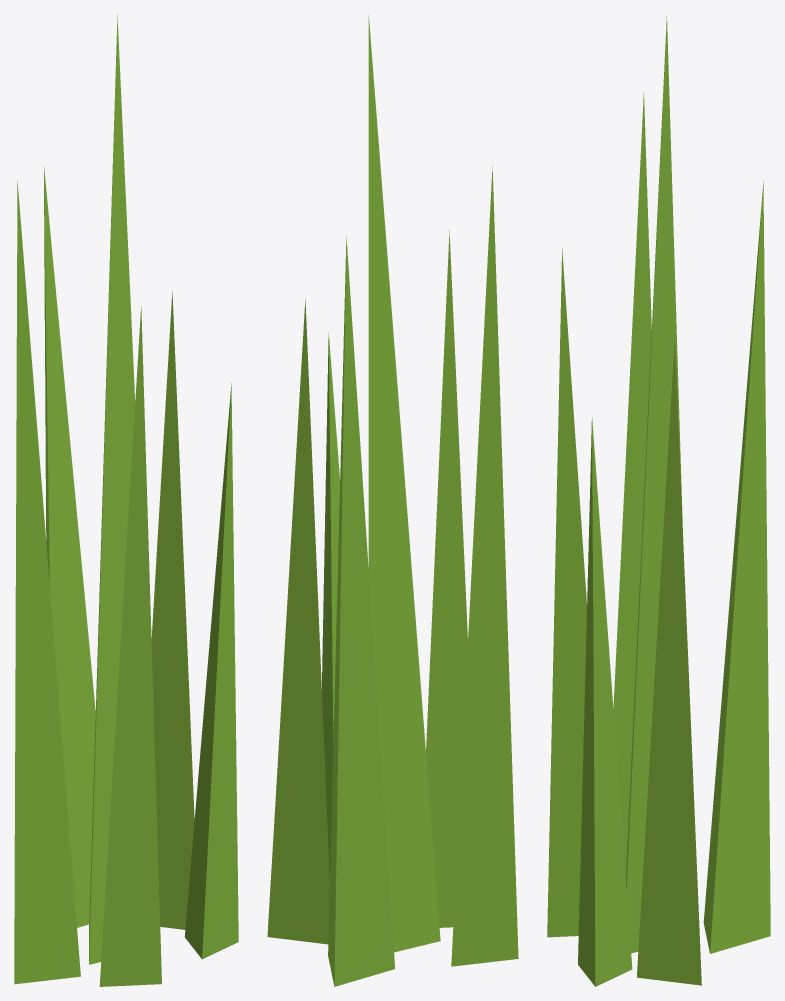
Rendered from grass.fbx.
3 renders of one model, left to right at view 1: azimuth 30°, elevation 25°; view 2: azimuth 150°, elevation 25°; view 3: azimuth 270°, elevation 25°, orthographic.
Visible parts, largest first — view 1: Cone; view 2: Cone; view 3: Cone.
Boxes of the visible parts, x1=… form: Cone: x1=14, y1=14, x2=238, y2=986; Cone: x1=267, y1=15, x2=518, y2=986; Cone: x1=547, y1=16, x2=770, y2=986.
Bounding box in the file's own units: 31.46 × 131 × 28.53.
